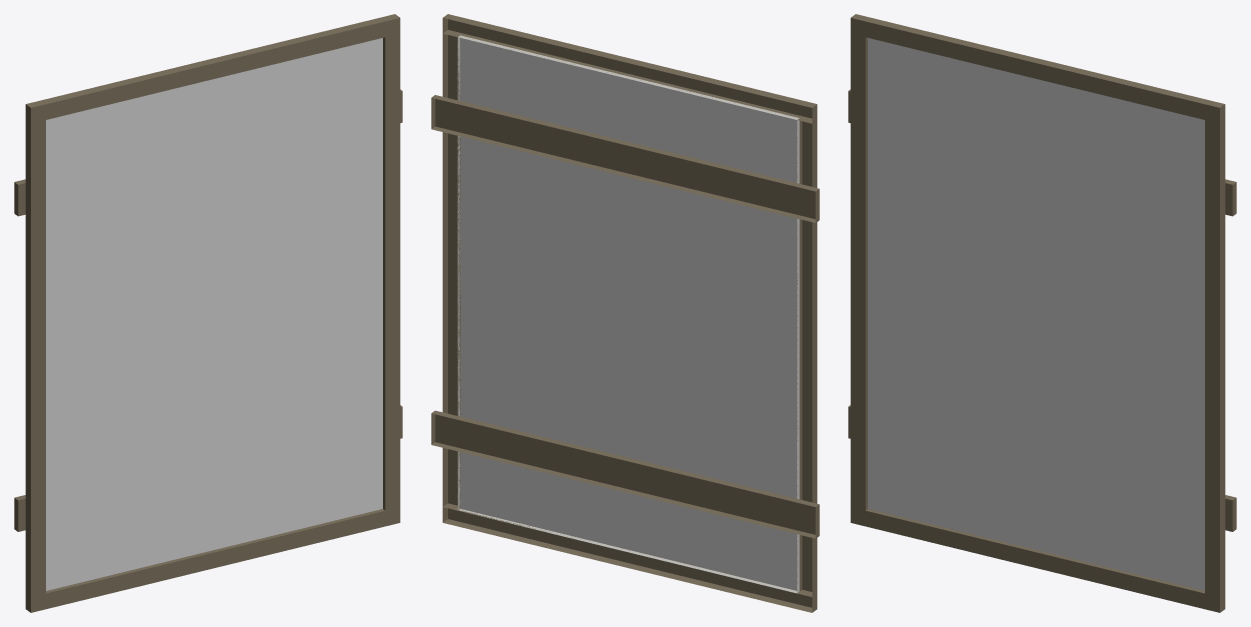
File: range_sign_rules.glb
3 views of the same model, side by side, from view 1: azimuth 30°, elevation 25°; view 2: azimuth 150°, elevation 25°; view 3: azimuth 330°, elevation 25° (orthographic).
Parts seen in each view (by area): view 1: range_sign_rules; view 2: range_sign_rules; view 3: range_sign_rules.
Part boxes in pixels (bbox=[...]): range_sign_rules: bbox=[14, 14, 402, 612]; range_sign_rules: bbox=[431, 14, 819, 612]; range_sign_rules: bbox=[848, 14, 1236, 612].
Size of the model in its own units: 1.02 by 1.28 by 0.042.
